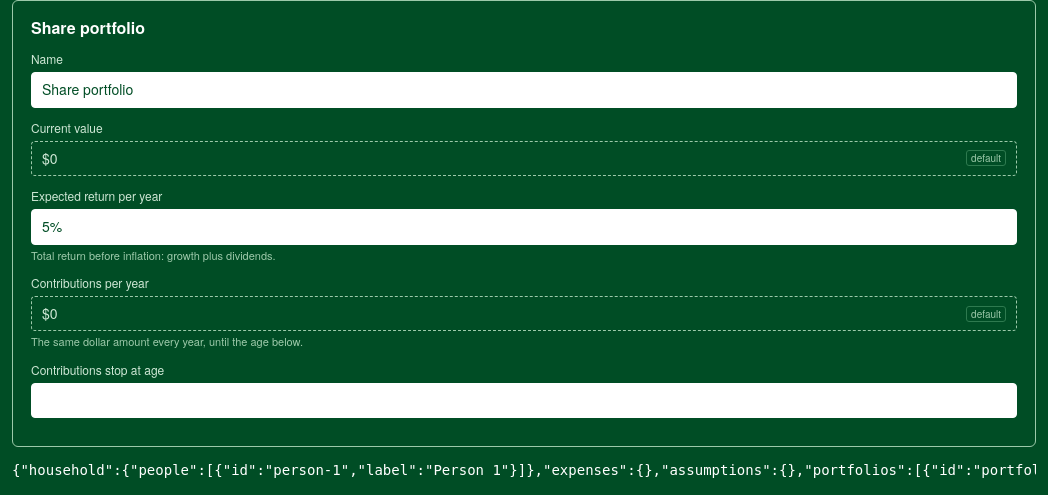
Test case: PortfolioSection › expected return › restores the default when cleared
Clear the field labelled "Expected return per year" at (524, 227), box [42,217,1006,237]
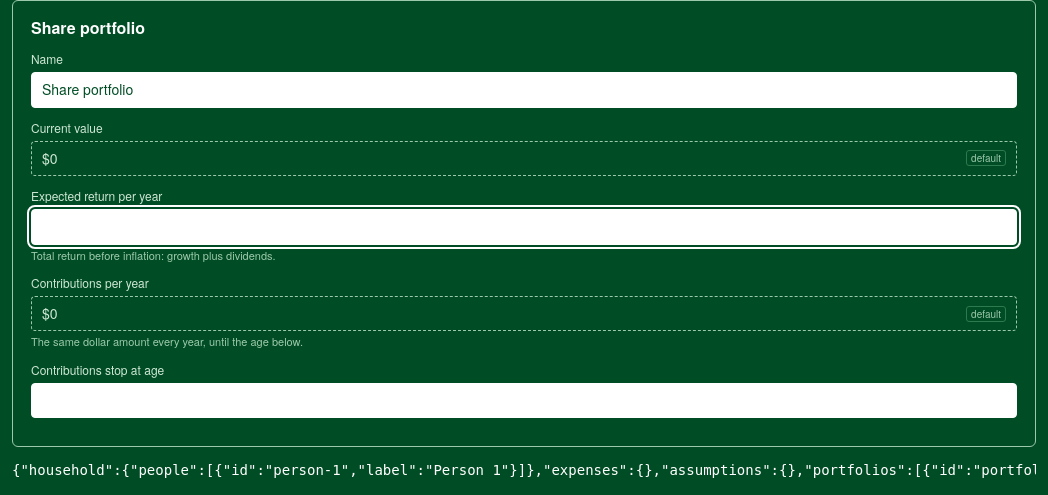
Press Tab
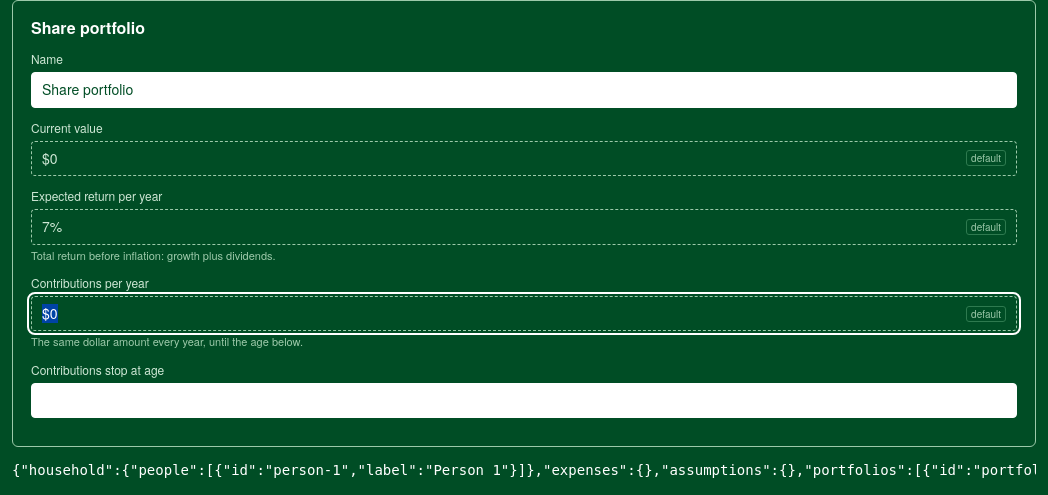
Now the field labelled "Expected return per year" holds "7%", box [42,217,960,237]
